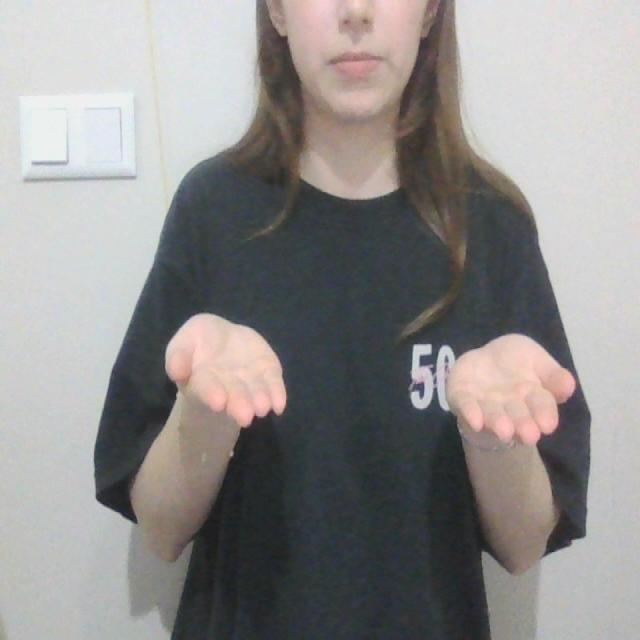Evet: (158, 304, 583, 450)
